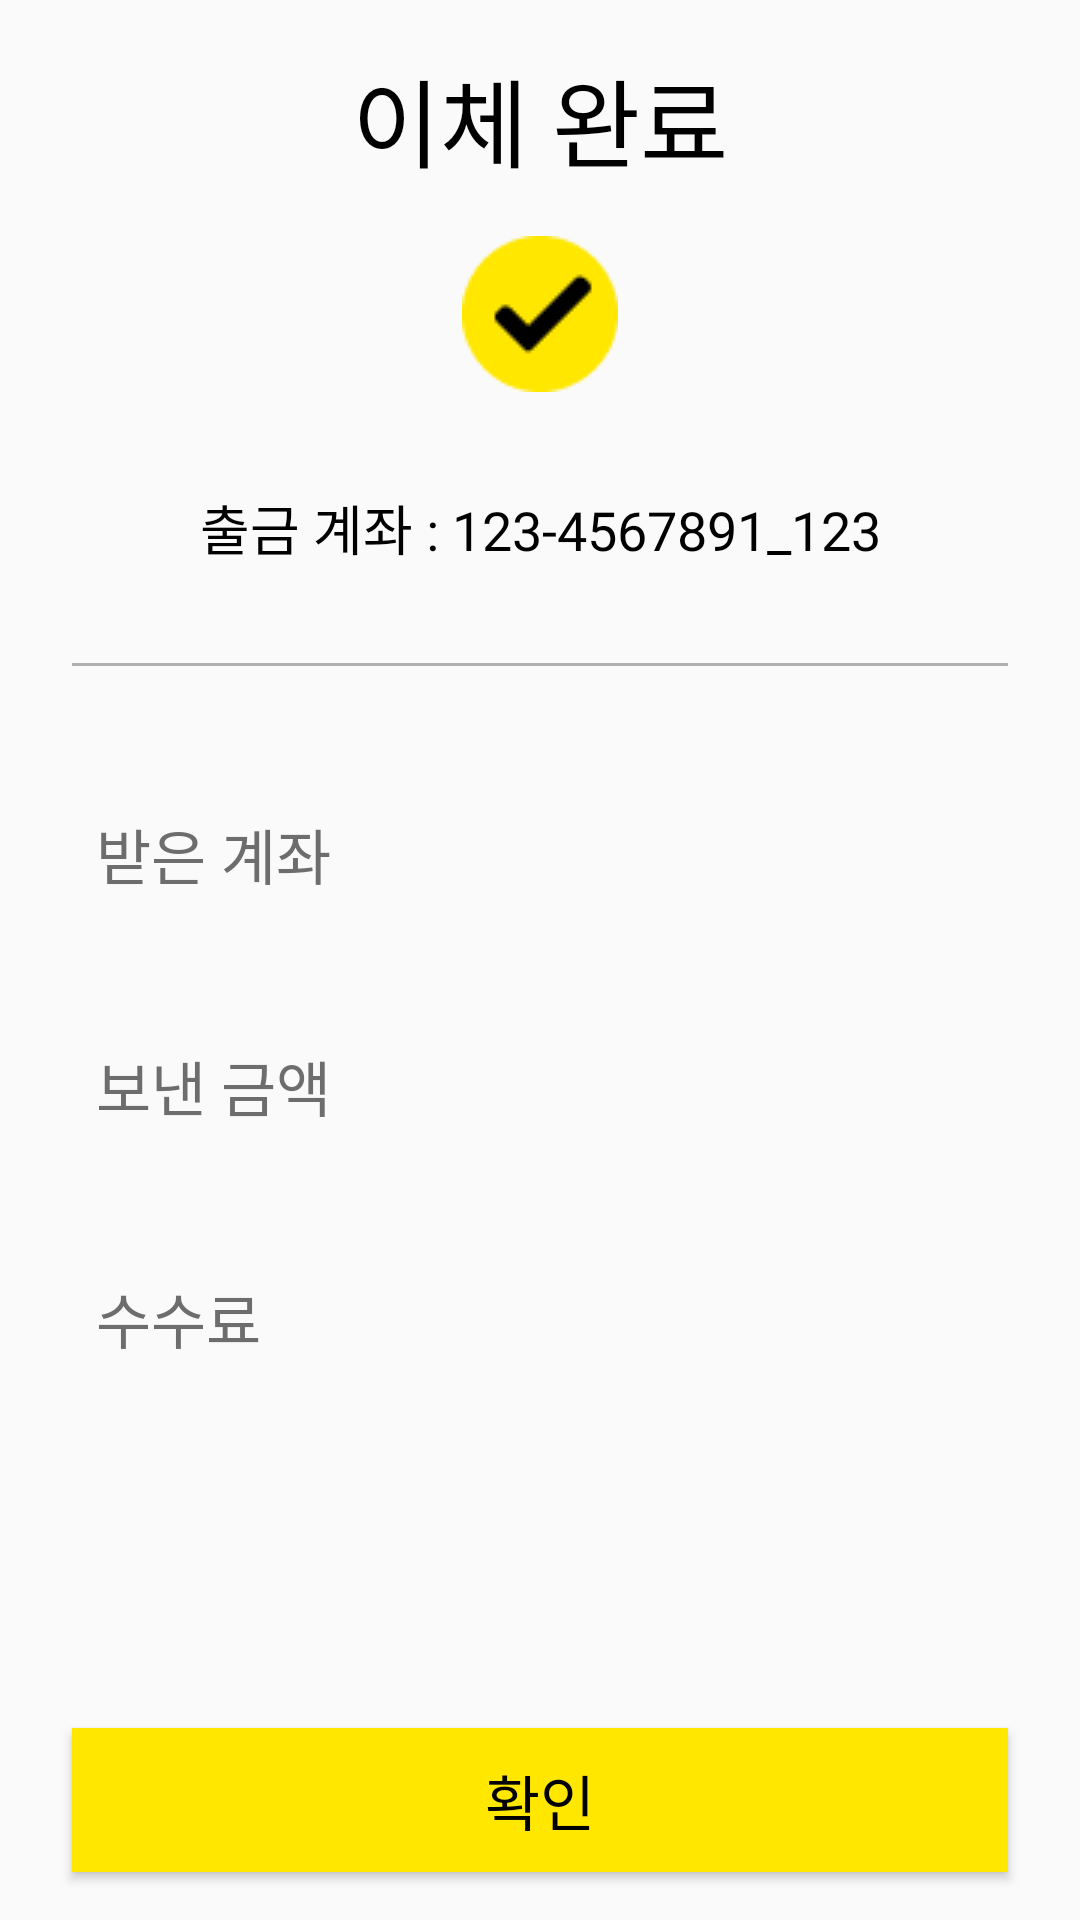

Named icons in this screenshot (1080 × 1920) and their bounding boxes, (x1=x1, y1=y1, x2=x2, y2=y2):
makesuccess: (x1=462, y1=236, x2=618, y2=392)
